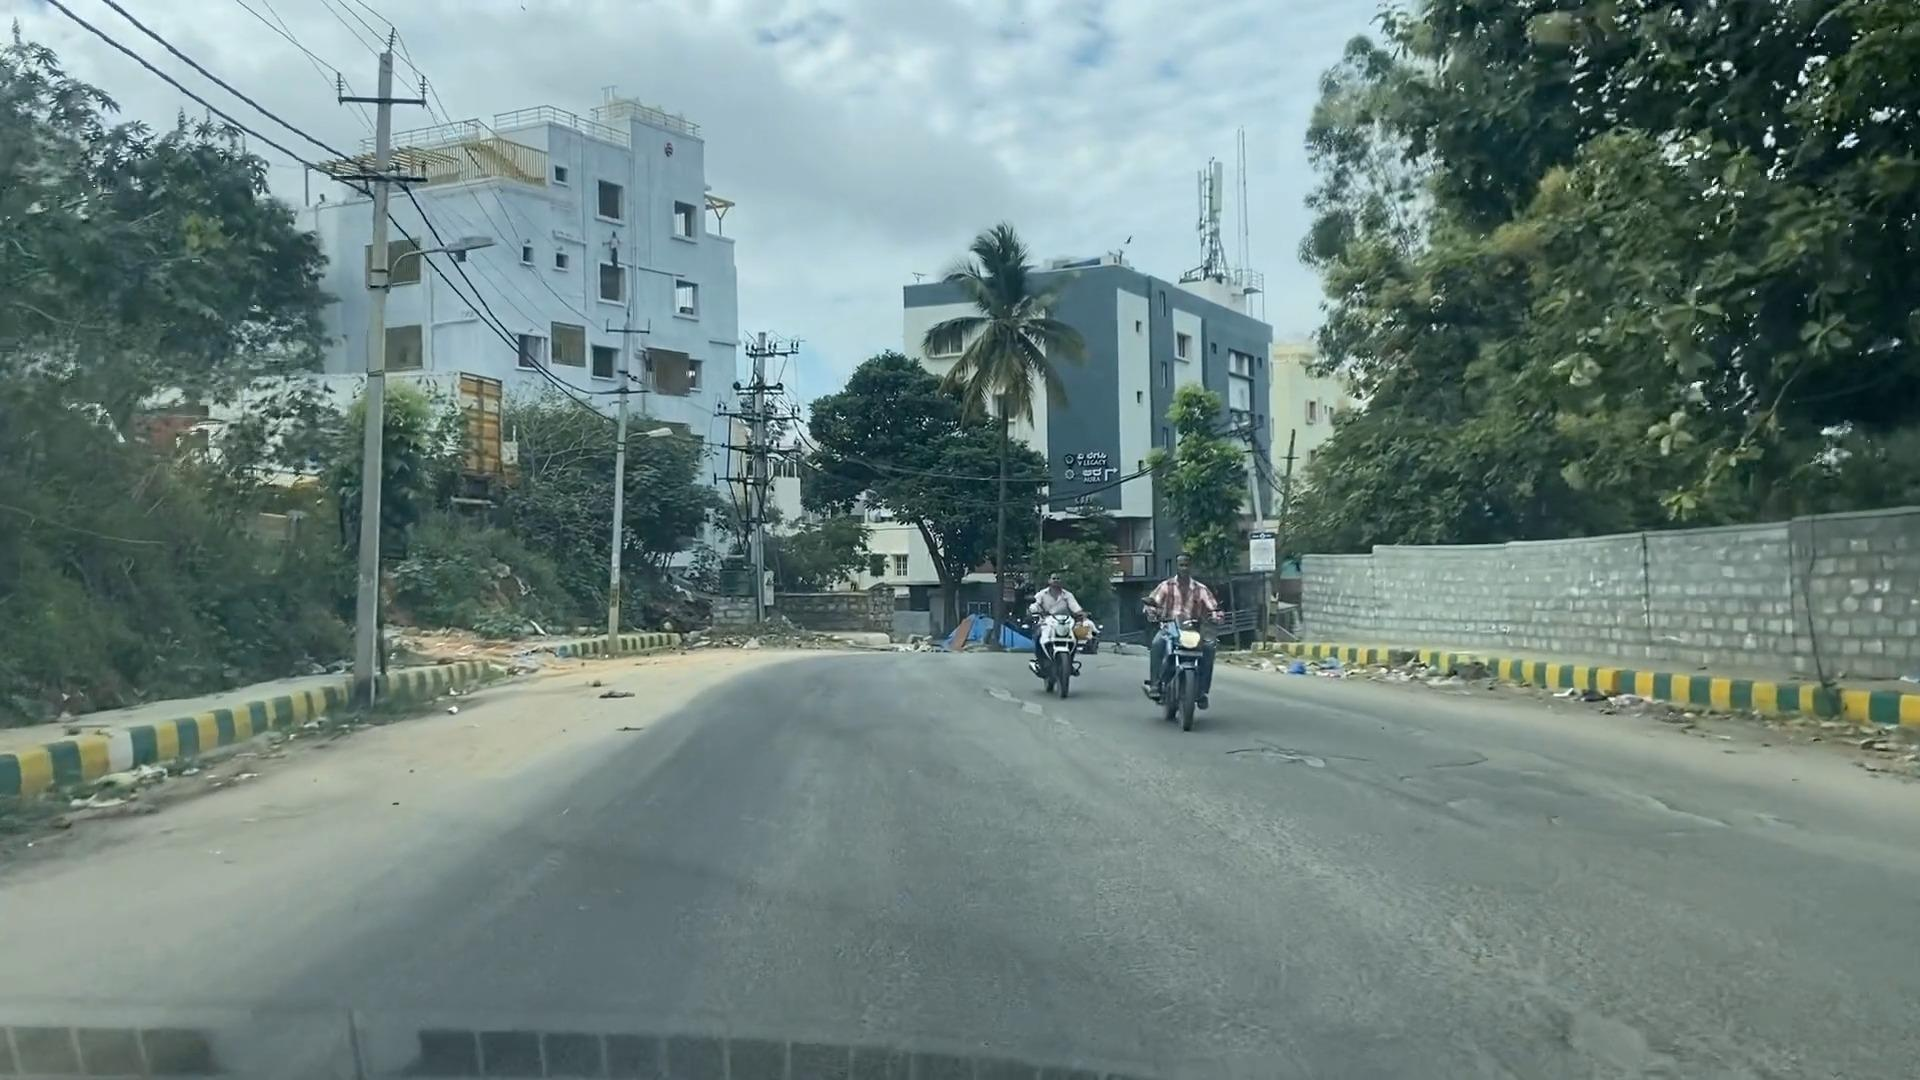RoadDamages: (1460, 724, 1780, 872), (1215, 728, 1457, 860), (927, 645, 1096, 765)
